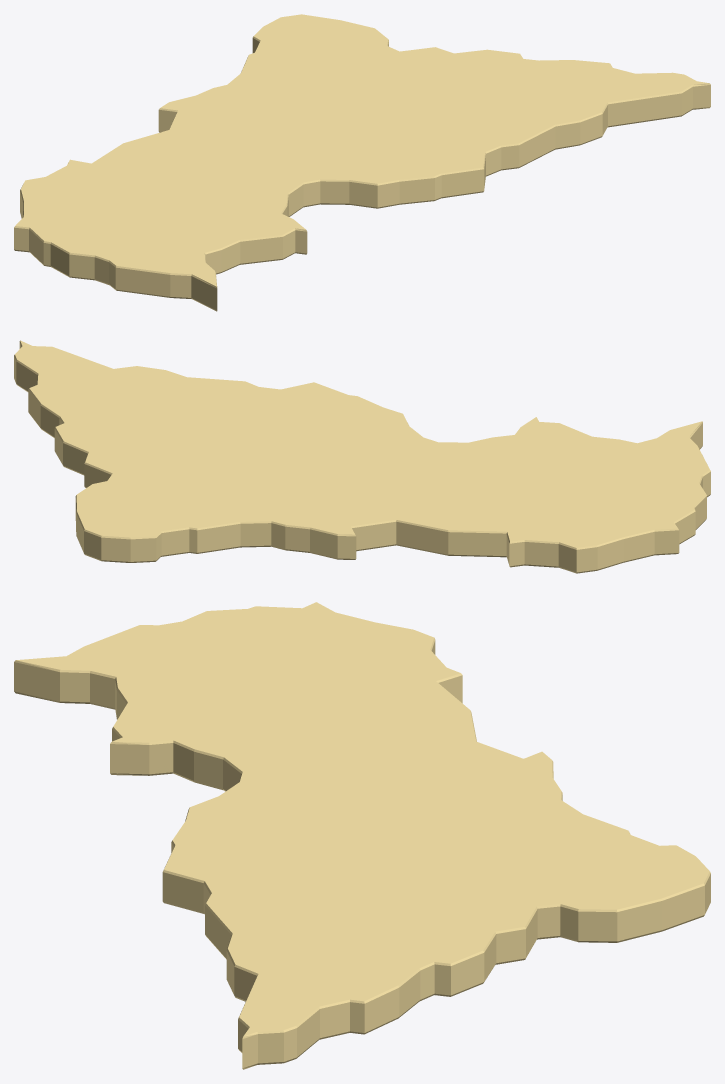
Rendered from CAF.glb.
3 renders of one model, top to bottom at view 1: azimuth 30°, elevation 25°; view 2: azimuth 150°, elevation 25°; view 3: azimuth 270°, elevation 25°, orthographic. The views are drawn at different scales.
Size of the model in its own units: 1.91 by 0.068 by 1.29.
